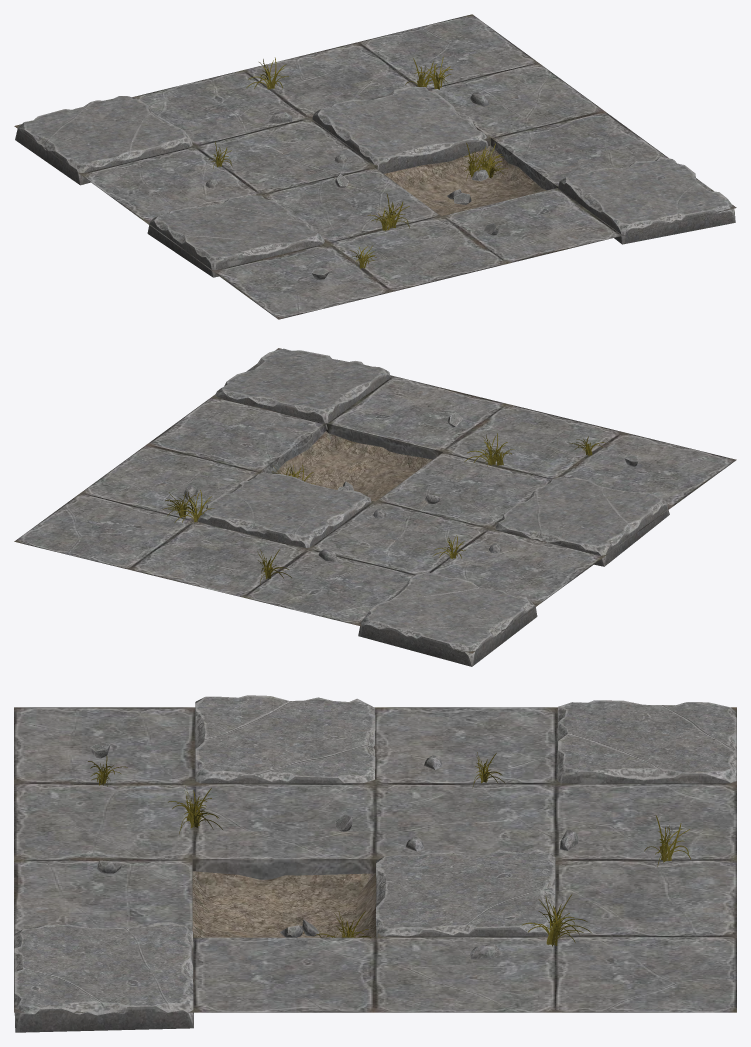
The model's file is stone_floor.glb.
The picture shows the model from 3 angles, top to bottom: view 1: azimuth 30°, elevation 25°; view 2: azimuth 150°, elevation 25°; view 3: azimuth 270°, elevation 25°; orthographic projection. The views are drawn at different scales.
Parts seen in each view (by area): view 1: StoneFloor_StoneFloor_0, StoneFloor_Details_StoneFloorDetails_0, StoneFloor_Grass_StoneFloorGrass_0; view 2: StoneFloor_StoneFloor_0, StoneFloor_Details_StoneFloorDetails_0, StoneFloor_Grass_StoneFloorGrass_0; view 3: StoneFloor_StoneFloor_0, StoneFloor_Details_StoneFloorDetails_0, StoneFloor_Grass_StoneFloorGrass_0.
Part boxes in pixels (bbox=[...]): StoneFloor_StoneFloor_0: bbox=[14, 14, 736, 319]; StoneFloor_Details_StoneFloorDetails_0: bbox=[15, 87, 735, 279]; StoneFloor_Grass_StoneFloorGrass_0: bbox=[209, 57, 507, 268]; StoneFloor_StoneFloor_0: bbox=[14, 348, 736, 653]; StoneFloor_Details_StoneFloorDetails_0: bbox=[184, 348, 669, 666]; StoneFloor_Grass_StoneFloorGrass_0: bbox=[163, 433, 605, 583]; StoneFloor_StoneFloor_0: bbox=[14, 707, 736, 1012]; StoneFloor_Details_StoneFloorDetails_0: bbox=[14, 695, 736, 1032]; StoneFloor_Grass_StoneFloorGrass_0: bbox=[88, 752, 690, 946].
Size of the model in its own units: 382 by 47.55 by 382.
Materials: 3 (3 with a texture image).
